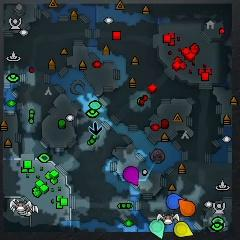p1: (166, 193, 184, 210)
p2: (149, 219, 165, 239)
p3: (123, 166, 139, 185)
p4: (174, 221, 193, 238)
p5: (178, 199, 196, 217)
x3Clone: (88, 122, 103, 136)
